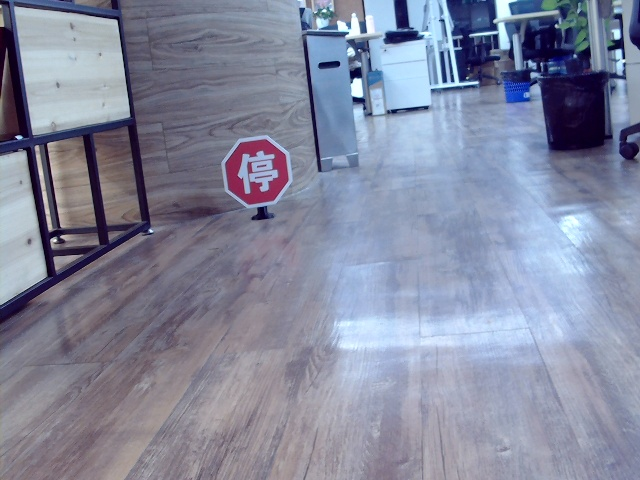stop: (237, 146, 278, 191)
